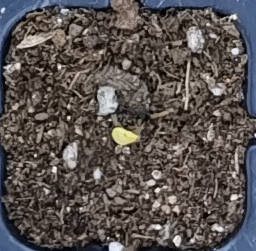pepper seed: (41, 53, 180, 199)
